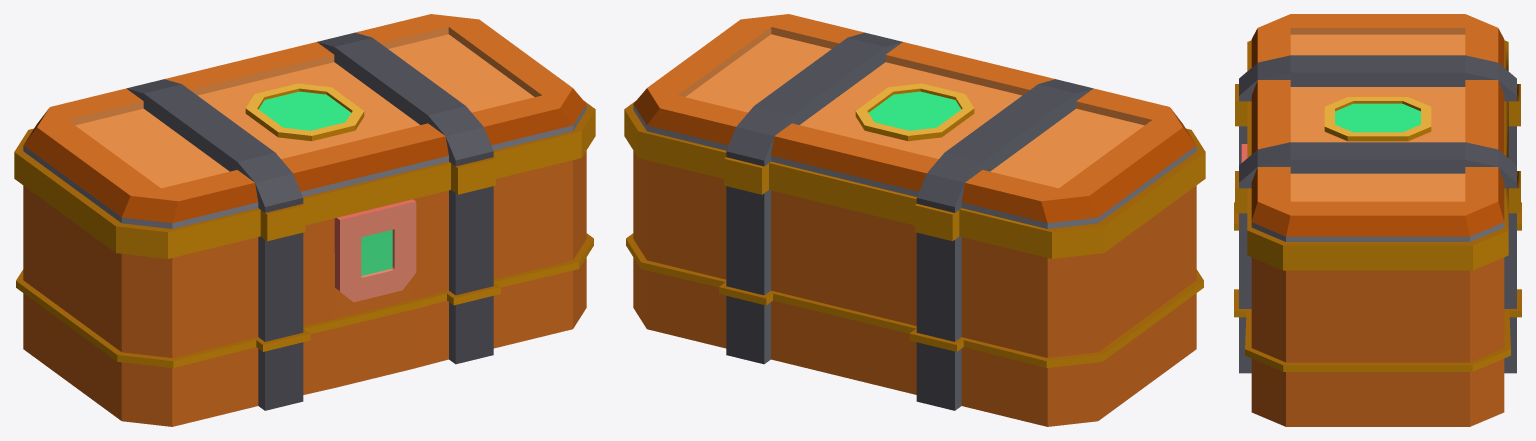
File: CrateOrange_01.glb
3 renders of one model, left to right at view 1: azimuth 30°, elevation 25°; view 2: azimuth 150°, elevation 25°; view 3: azimuth 270°, elevation 25°, orthographic. The views are drawn at different scales.
Visible parts, largest first — view 1: CrateOrange_01; view 2: CrateOrange_01; view 3: CrateOrange_01.
Boxes of the visible parts, x1,y1,x2,y2 form: CrateOrange_01: [14, 14, 595, 426]; CrateOrange_01: [624, 14, 1205, 426]; CrateOrange_01: [1234, 14, 1521, 426].
Size of what is drawn, in the model's own units: 0.4093 by 0.1864 by 0.2278.
1 material, 1 textured.
